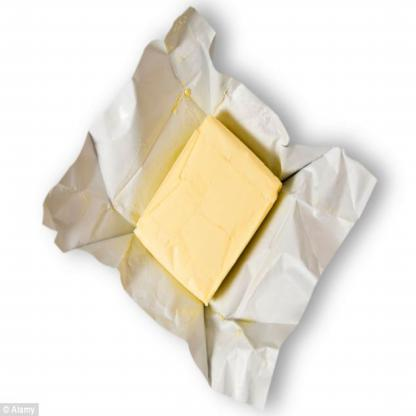butter: (134, 118, 280, 307)
